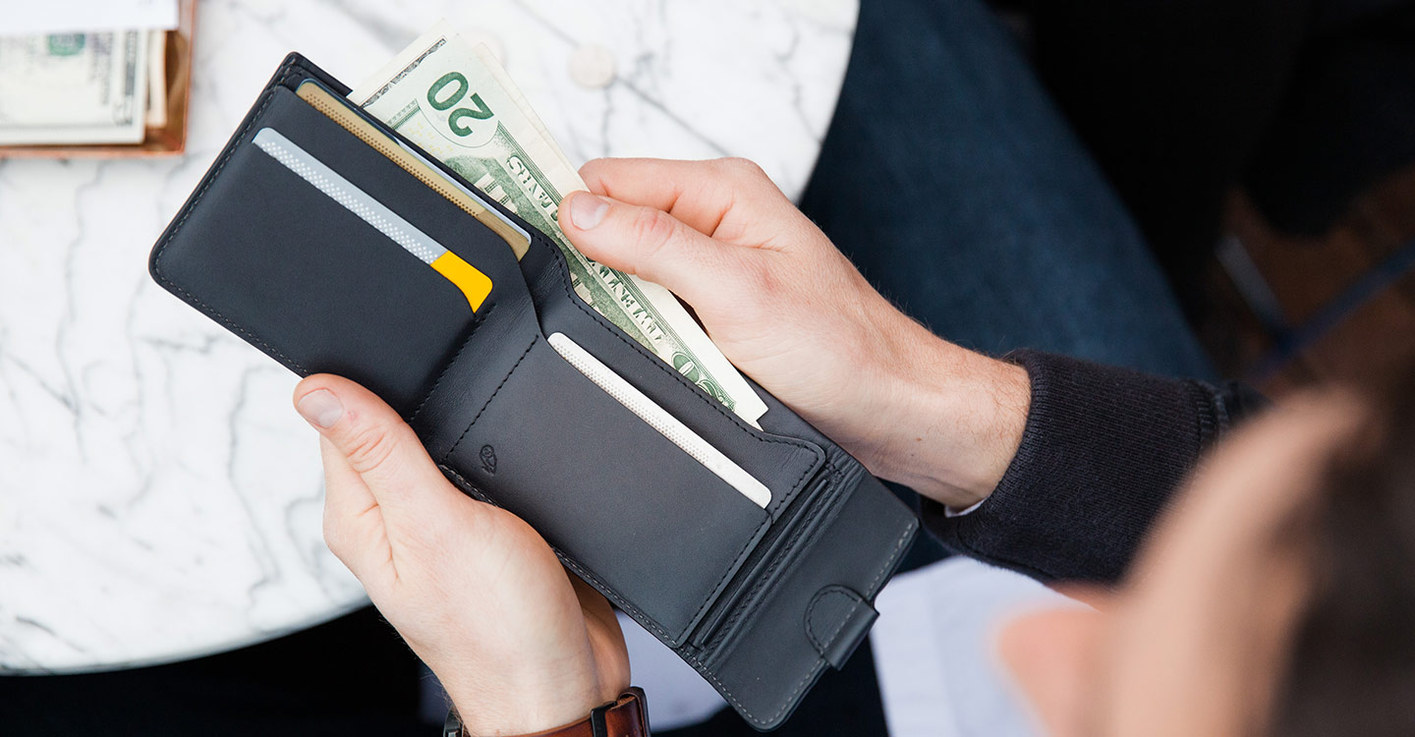monedero: (141, 46, 928, 735)
